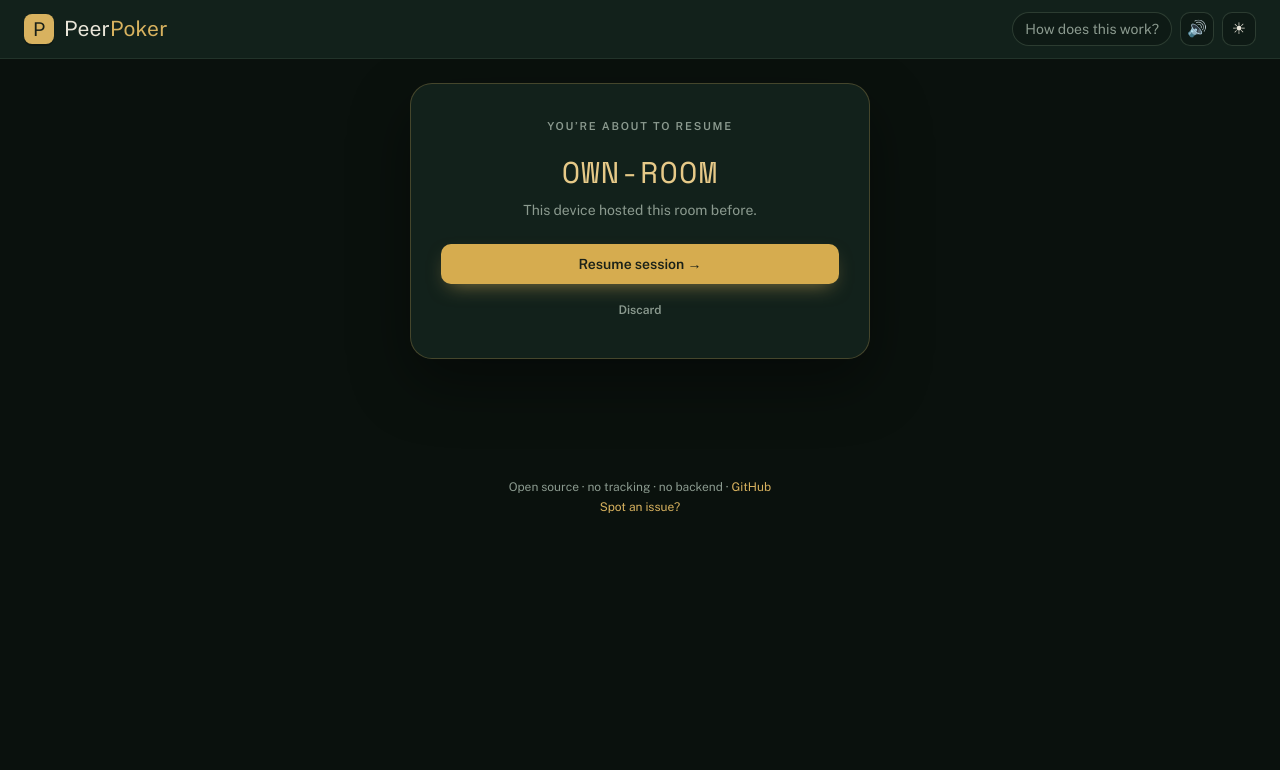
Scenario: App — following your own room link › discarding backs out to the landing page
Expected: the text "You’re about to resume" is shown, [547,120,733,132]
Click the button "Discard" at (640, 310), box [606,296,674,324]
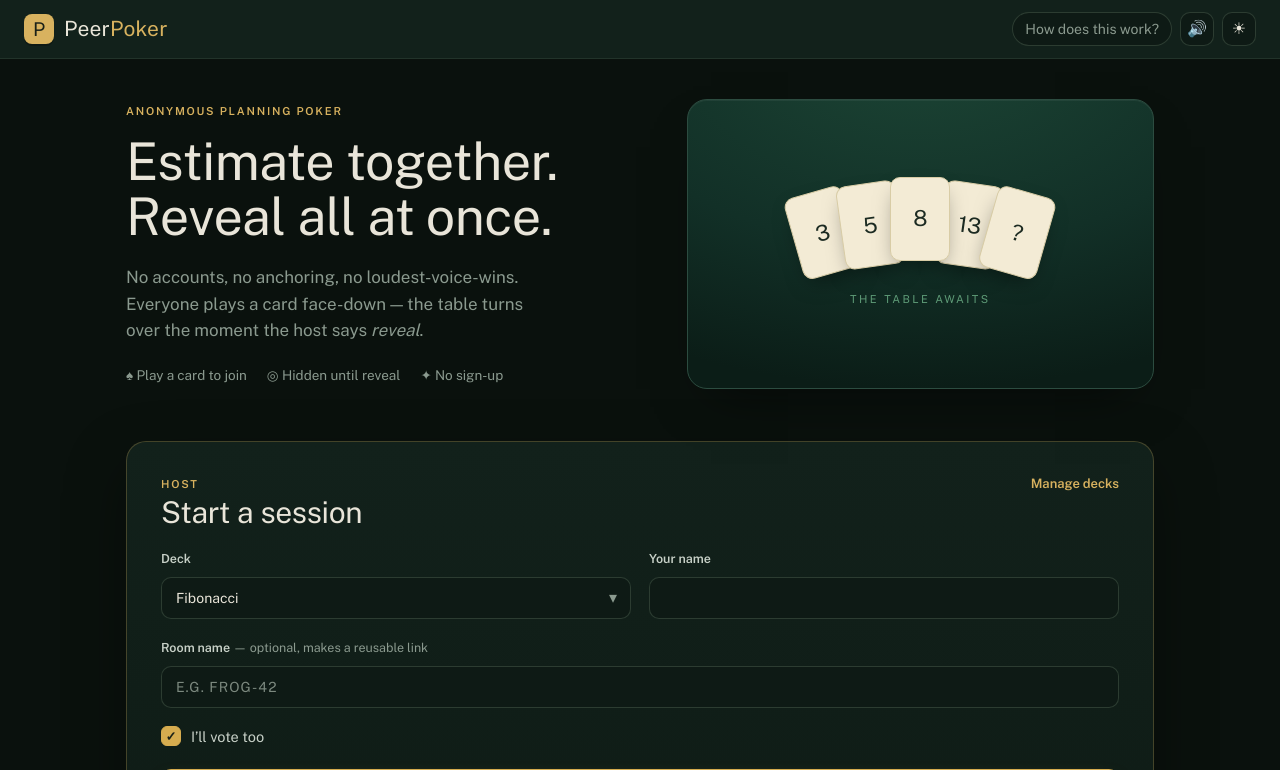
Now the heading "Start a session" is shown, box [161,496,362,528]
